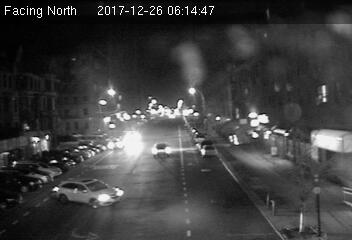car: (52, 175, 124, 212), (152, 143, 171, 158), (200, 144, 219, 159)
